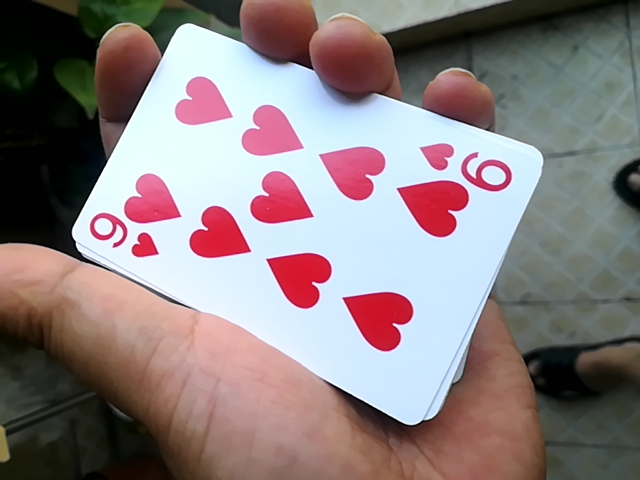hx 9: (59, 27, 524, 420)
